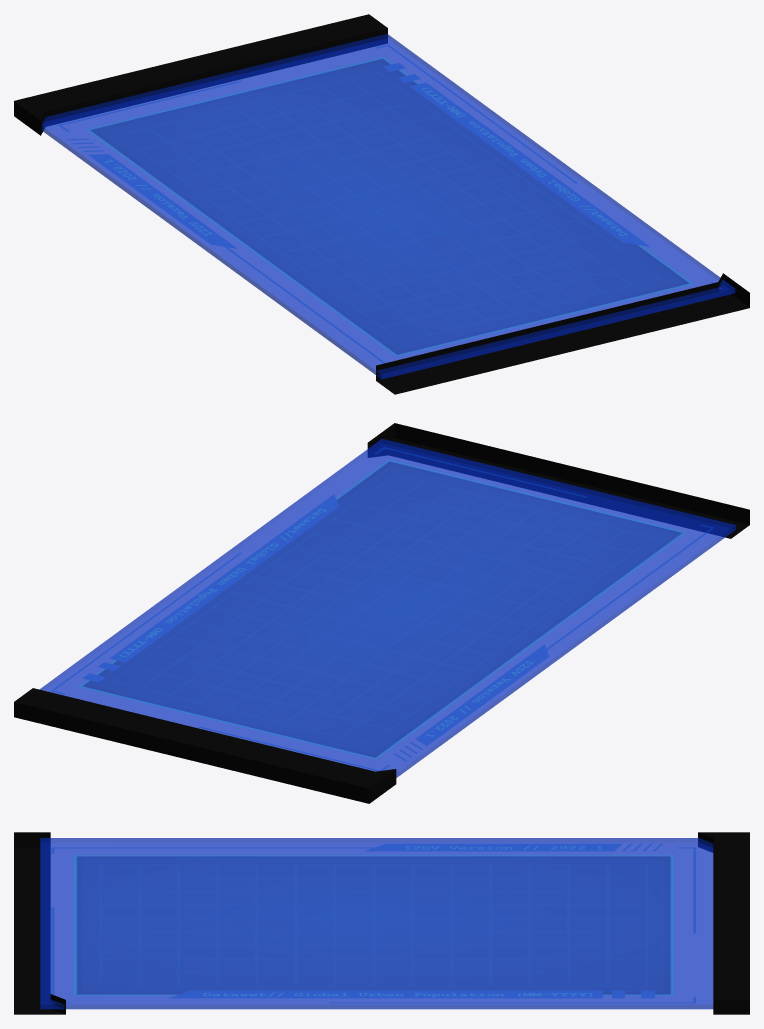
File: Tablet_04_exp.fbx
3 views of the same model, one above another, from view 1: azimuth 30°, elevation 25°; view 2: azimuth 150°, elevation 25°; view 3: azimuth 270°, elevation 25° (orthographic). The views are drawn at different scales.
Visible parts, largest first — view 1: Vetro, Immagine_schermo, manigle; view 2: Vetro, Immagine_schermo, manigle; view 3: Vetro, Immagine_schermo, manigle.
Part boxes in pixels (x1,y1,x2,y2): Vetro: (41, 34, 735, 379); Immagine_schermo: (59, 45, 720, 362); manigle: (14, 14, 749, 394); Vetro: (39, 438, 735, 777); Immagine_schermo: (51, 447, 713, 770); manigle: (14, 423, 749, 803); Vetro: (40, 838, 713, 1009); Immagine_schermo: (51, 844, 695, 1002); manigle: (14, 832, 749, 1014).
Size of the model in its own units: 39.75 by 1.64 by 73.75.
